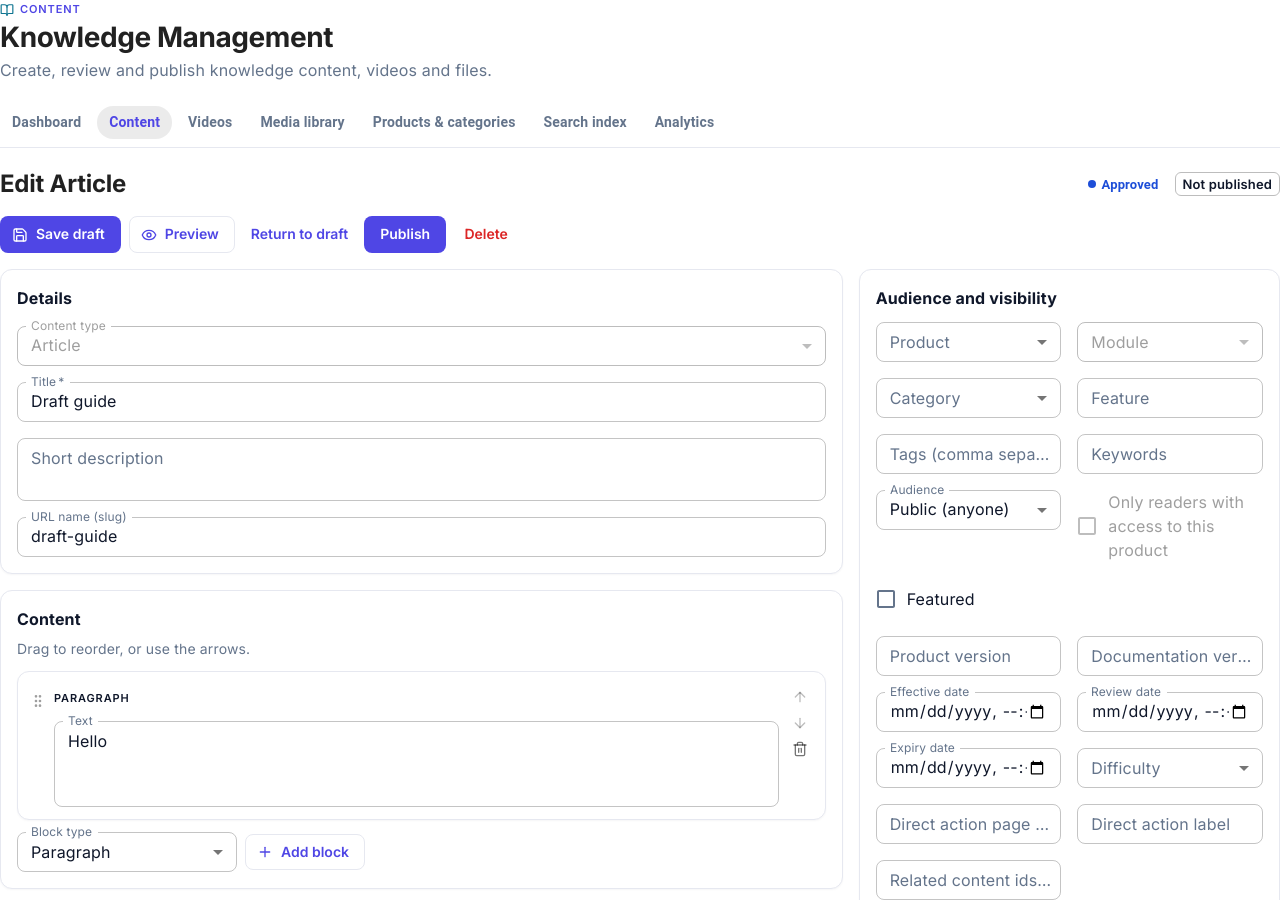
Test case: Knowledge Management › publishers see review and publish actions with minor or major versions
Click the button "Publish" at coordinates (405, 235), box [364, 216, 446, 253]
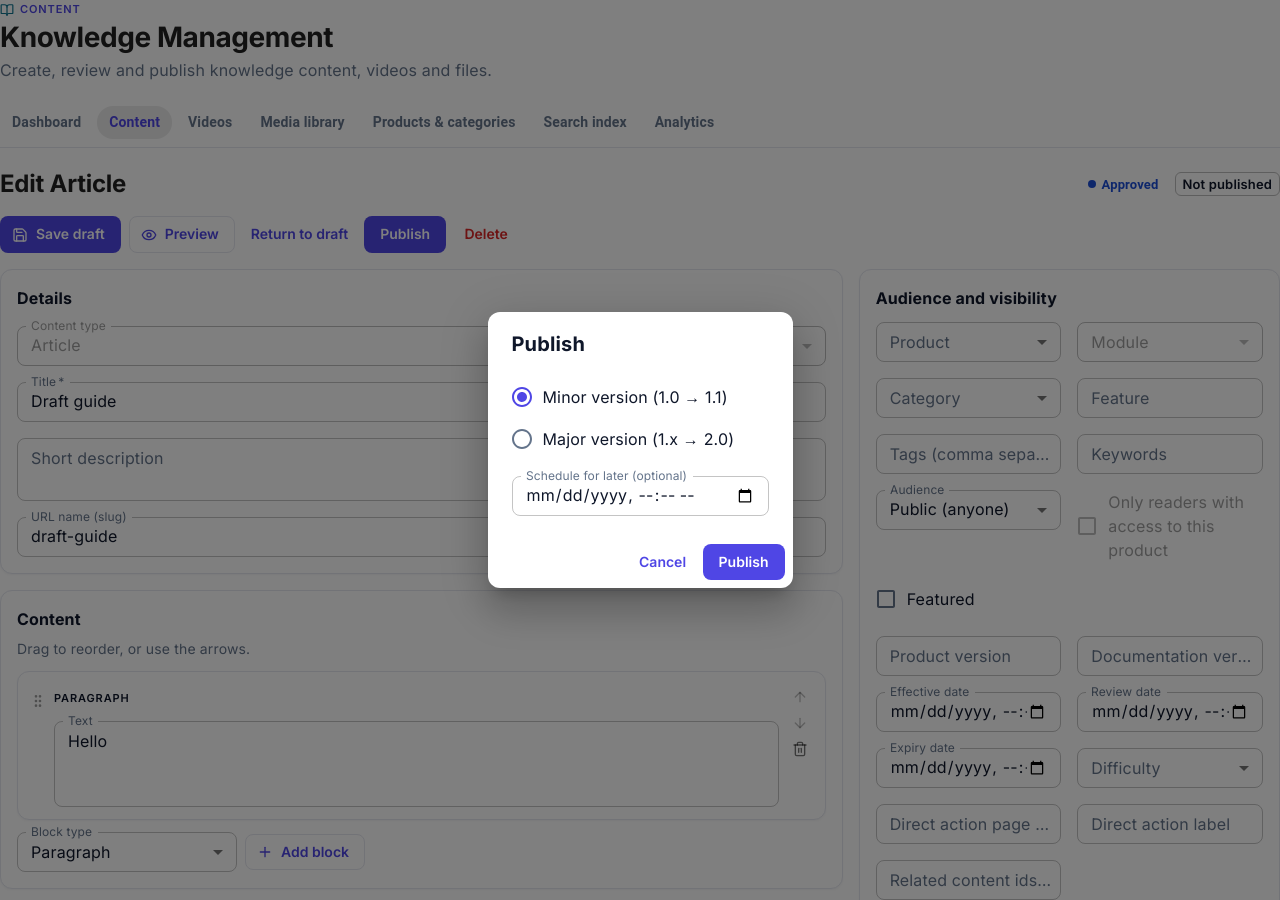
Click the radio button labelled "Major version (1.x → 2.0)" at coordinates (622, 439), box [510, 427, 734, 451]
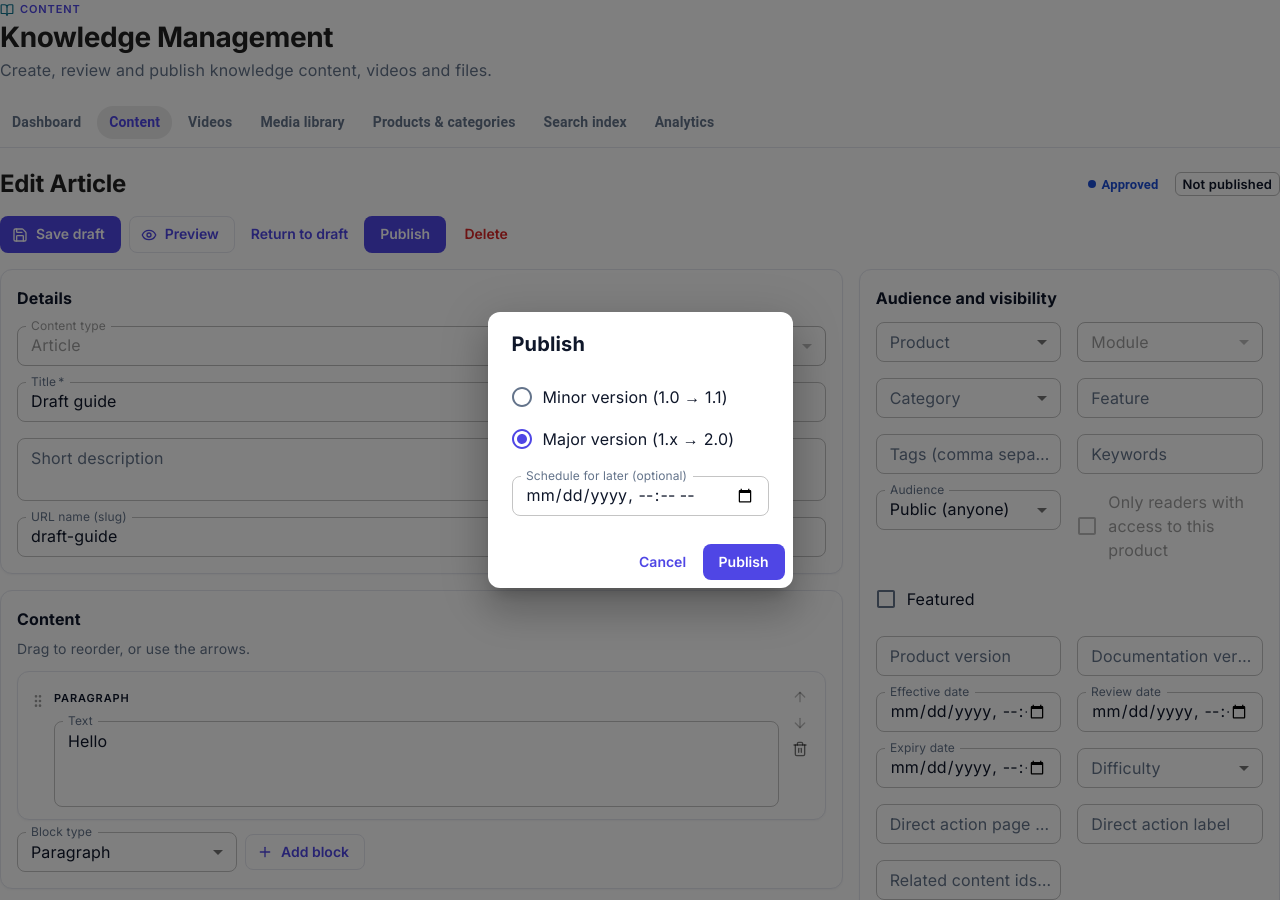
Click the button "Publish" at coordinates (744, 562), box [703, 544, 784, 580]
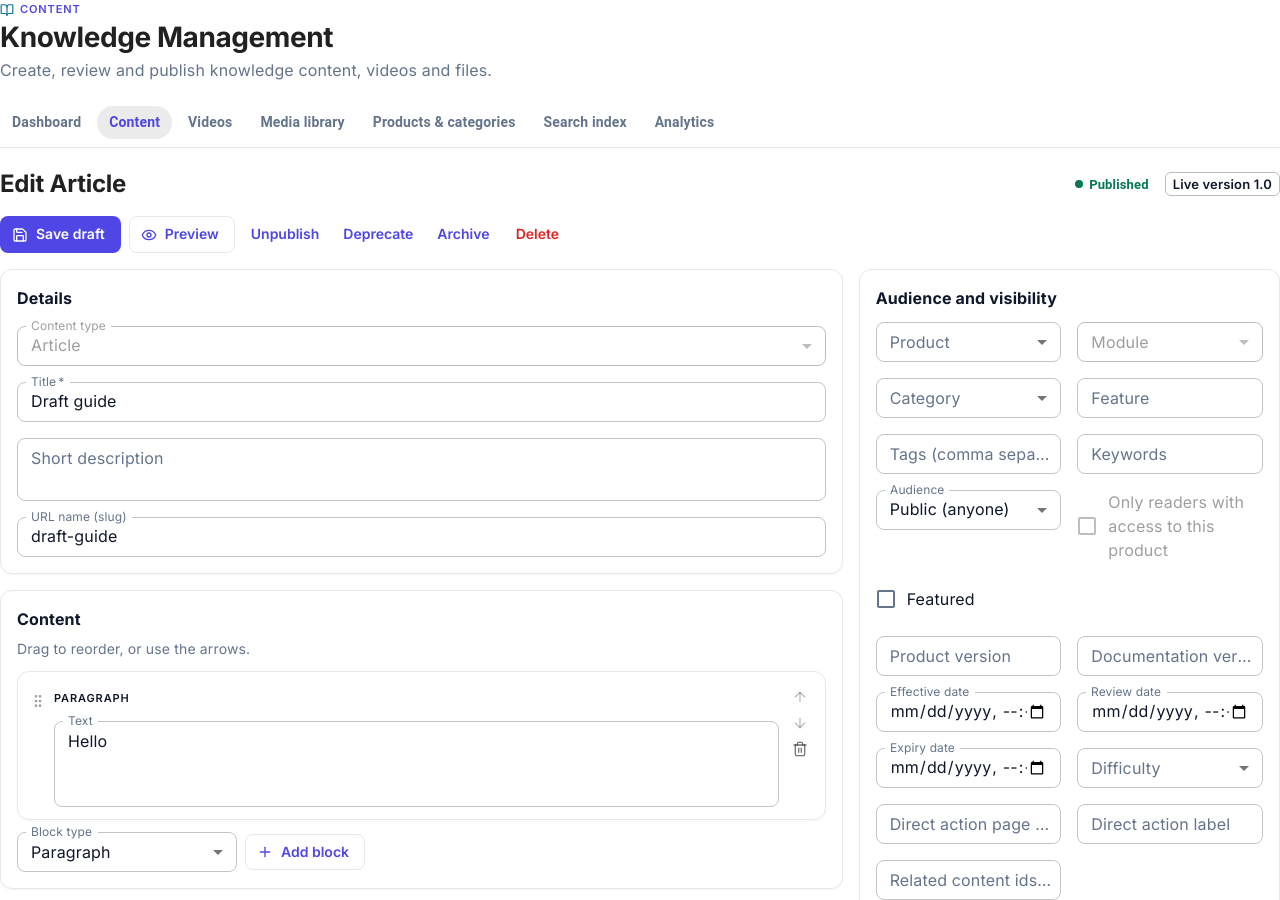
Expected: the text "Live version 1.0" is shown, [1166, 175, 1279, 194]
